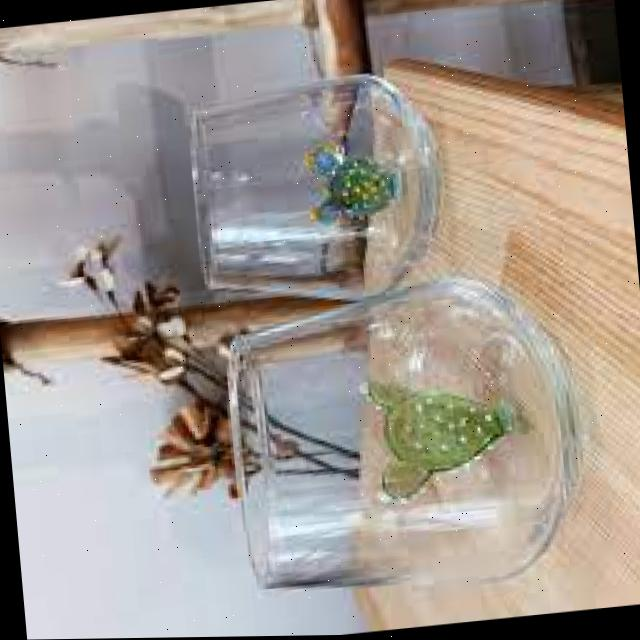Dry: (220, 268, 586, 611), (182, 68, 446, 314)
